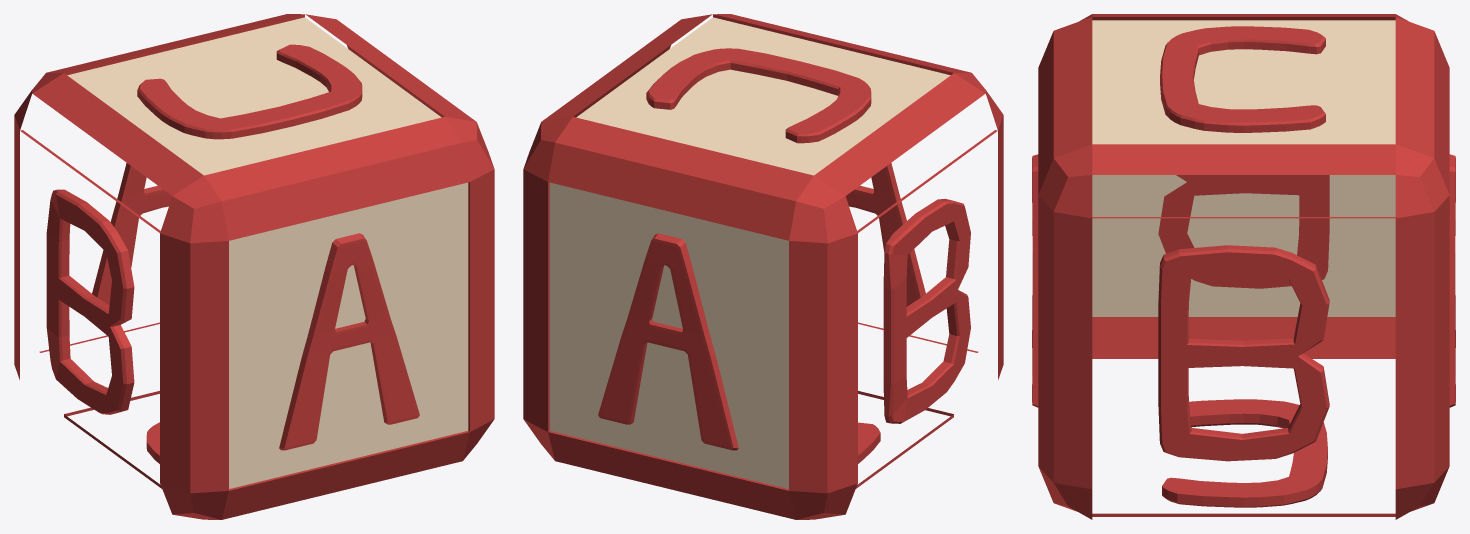
The model's file is Toy Block.glb.
3 views of the same model, side by side, from view 1: azimuth 30°, elevation 25°; view 2: azimuth 150°, elevation 25°; view 3: azimuth 270°, elevation 25° (orthographic). The views are drawn at different scales.
Parts seen in each view (by area): view 1: block, letterB, letterA, letterC.001, letterA.001; view 2: block, letterB, letterA.001, letterC.001, letterA, letterC; view 3: block, letterB.001, letterC.001, letterC, letterB, letterA, letterA.001.
Part boxes in pixels (bbox=[...]): block: bbox=[14, 14, 494, 519]; letterB: bbox=[46, 189, 134, 414]; letterA: bbox=[279, 233, 419, 450]; letterC.001: bbox=[137, 44, 362, 139]; letterA.001: bbox=[92, 163, 172, 304]; block: bbox=[523, 14, 1003, 519]; letterB: bbox=[883, 198, 970, 423]; letterA.001: bbox=[598, 233, 738, 450]; letterC.001: bbox=[646, 48, 871, 143]; letterA: bbox=[845, 163, 925, 306]; letterC: bbox=[858, 422, 880, 463]; block: bbox=[1038, 14, 1449, 519]; letterB.001: bbox=[1158, 245, 1329, 461]; letterC.001: bbox=[1160, 26, 1325, 132]; letterC: bbox=[1162, 399, 1327, 507]; letterB: bbox=[1158, 175, 1329, 288]; letterA: bbox=[1032, 154, 1038, 407]; letterA.001: bbox=[1449, 154, 1455, 407].
Bounding box in the file's own units: 2.06 × 2.07 × 2.06.
